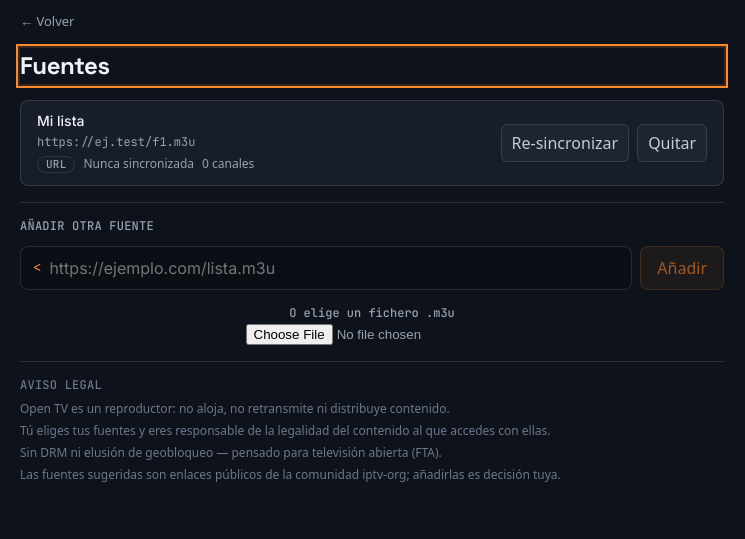
Test: Fuentes — quitar (confirmación en dos pasos) › F6: un fuentes() de refetch fallido tras un quitar exitoso también muestra un error visible
Step 1. Click the button "Quitar" → {"x": 672, "y": 143}, box [637,124,707,162]
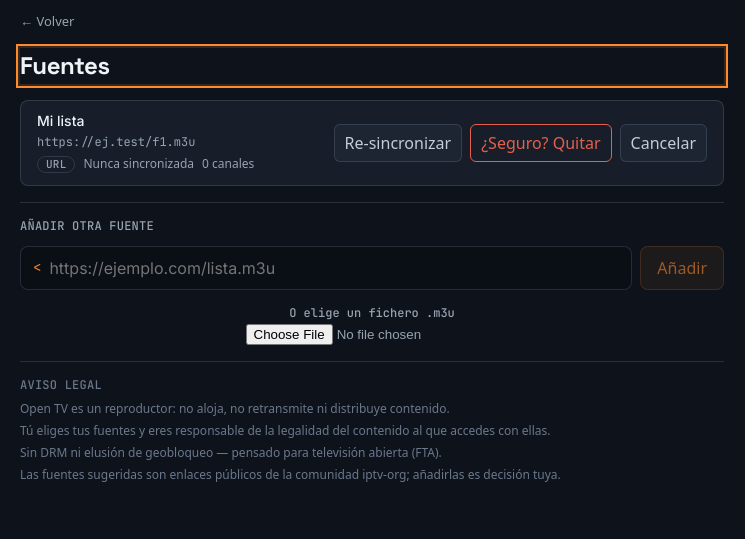
Step 2. Click the button "¿Seguro? Quitar" → {"x": 541, "y": 143}, box [470,124,612,162]
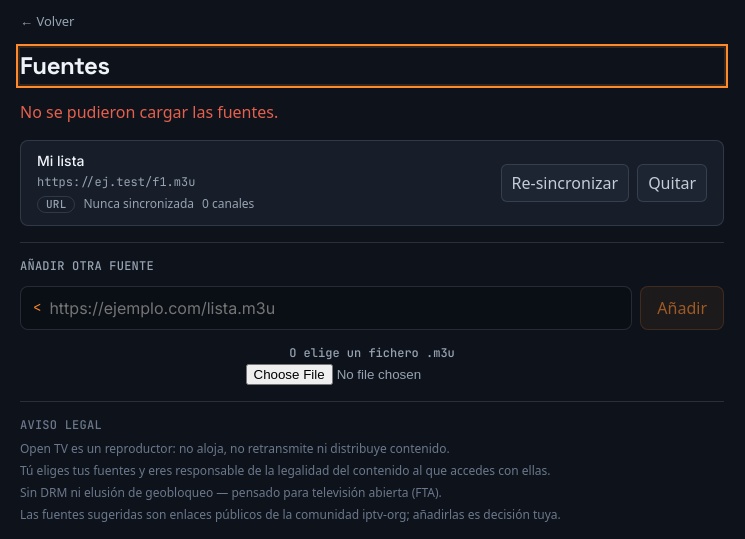
Now the text "No se pudieron cargar las fuentes." is shown, box [20,100,278,122]
